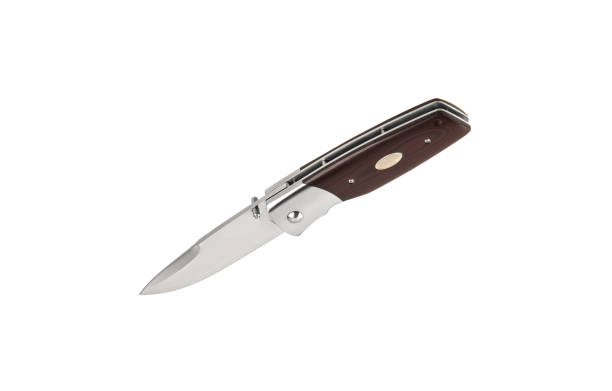knife: (136, 96, 473, 298)
